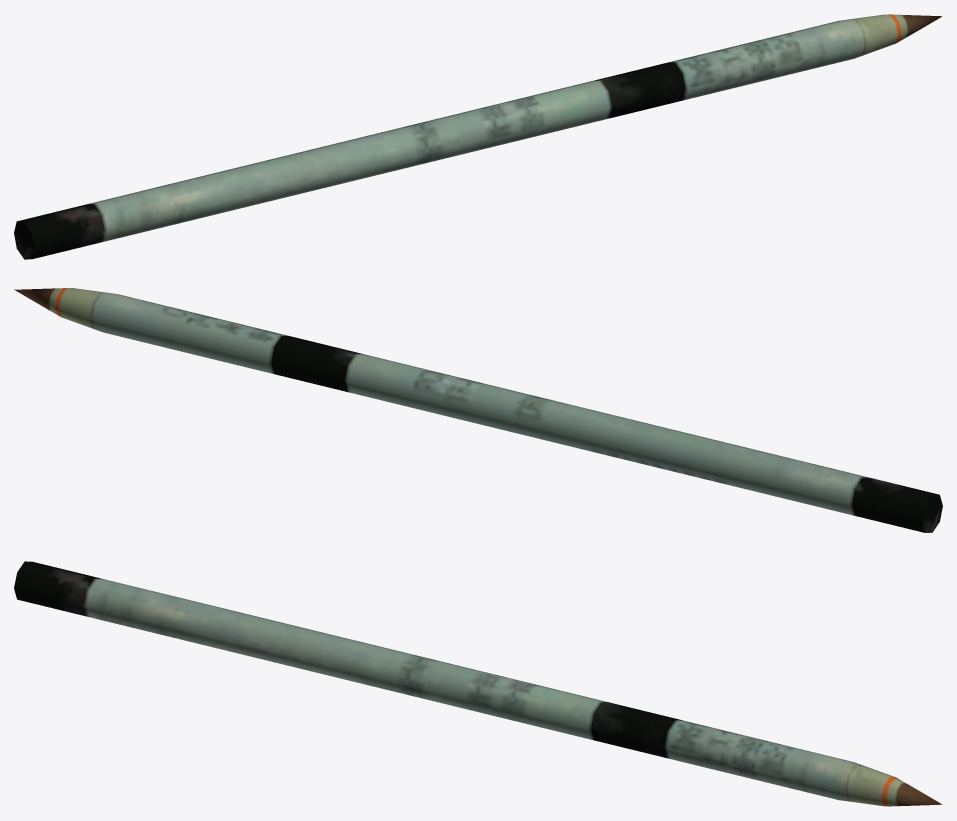
Rendered from projectile_s5rocket_LOD0.obj.
3 views of the same model, one above another, from view 1: azimuth 30°, elevation 25°; view 2: azimuth 150°, elevation 25°; view 3: azimuth 330°, elevation 25° (orthographic).
Parts seen in each view (by area): view 1: mtl_s5_rocket; view 2: mtl_s5_rocket; view 3: mtl_s5_rocket.
Boxes of the visible parts, <box> form: mtl_s5_rocket: <box>14,14,942,259</box>; mtl_s5_rocket: <box>14,288,942,532</box>; mtl_s5_rocket: <box>14,561,942,806</box>.
Bounding box in the file's own units: 140 × 5.56 × 5.59.
